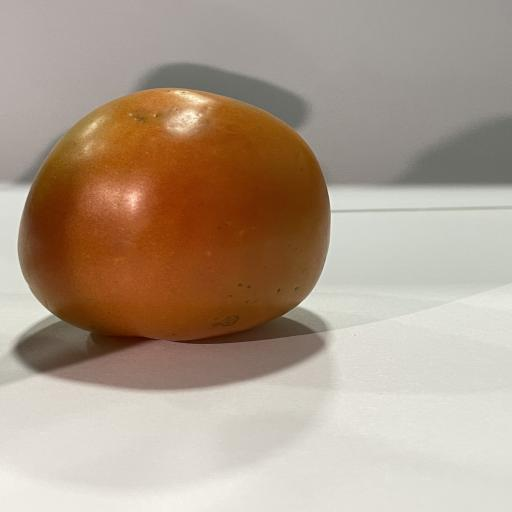unripe: (18, 87, 330, 340)
